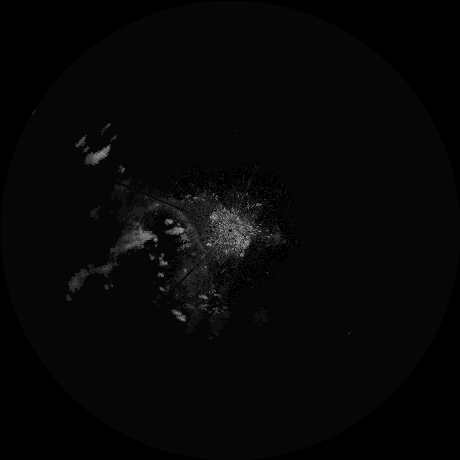frontgust: (169, 203, 206, 251)
